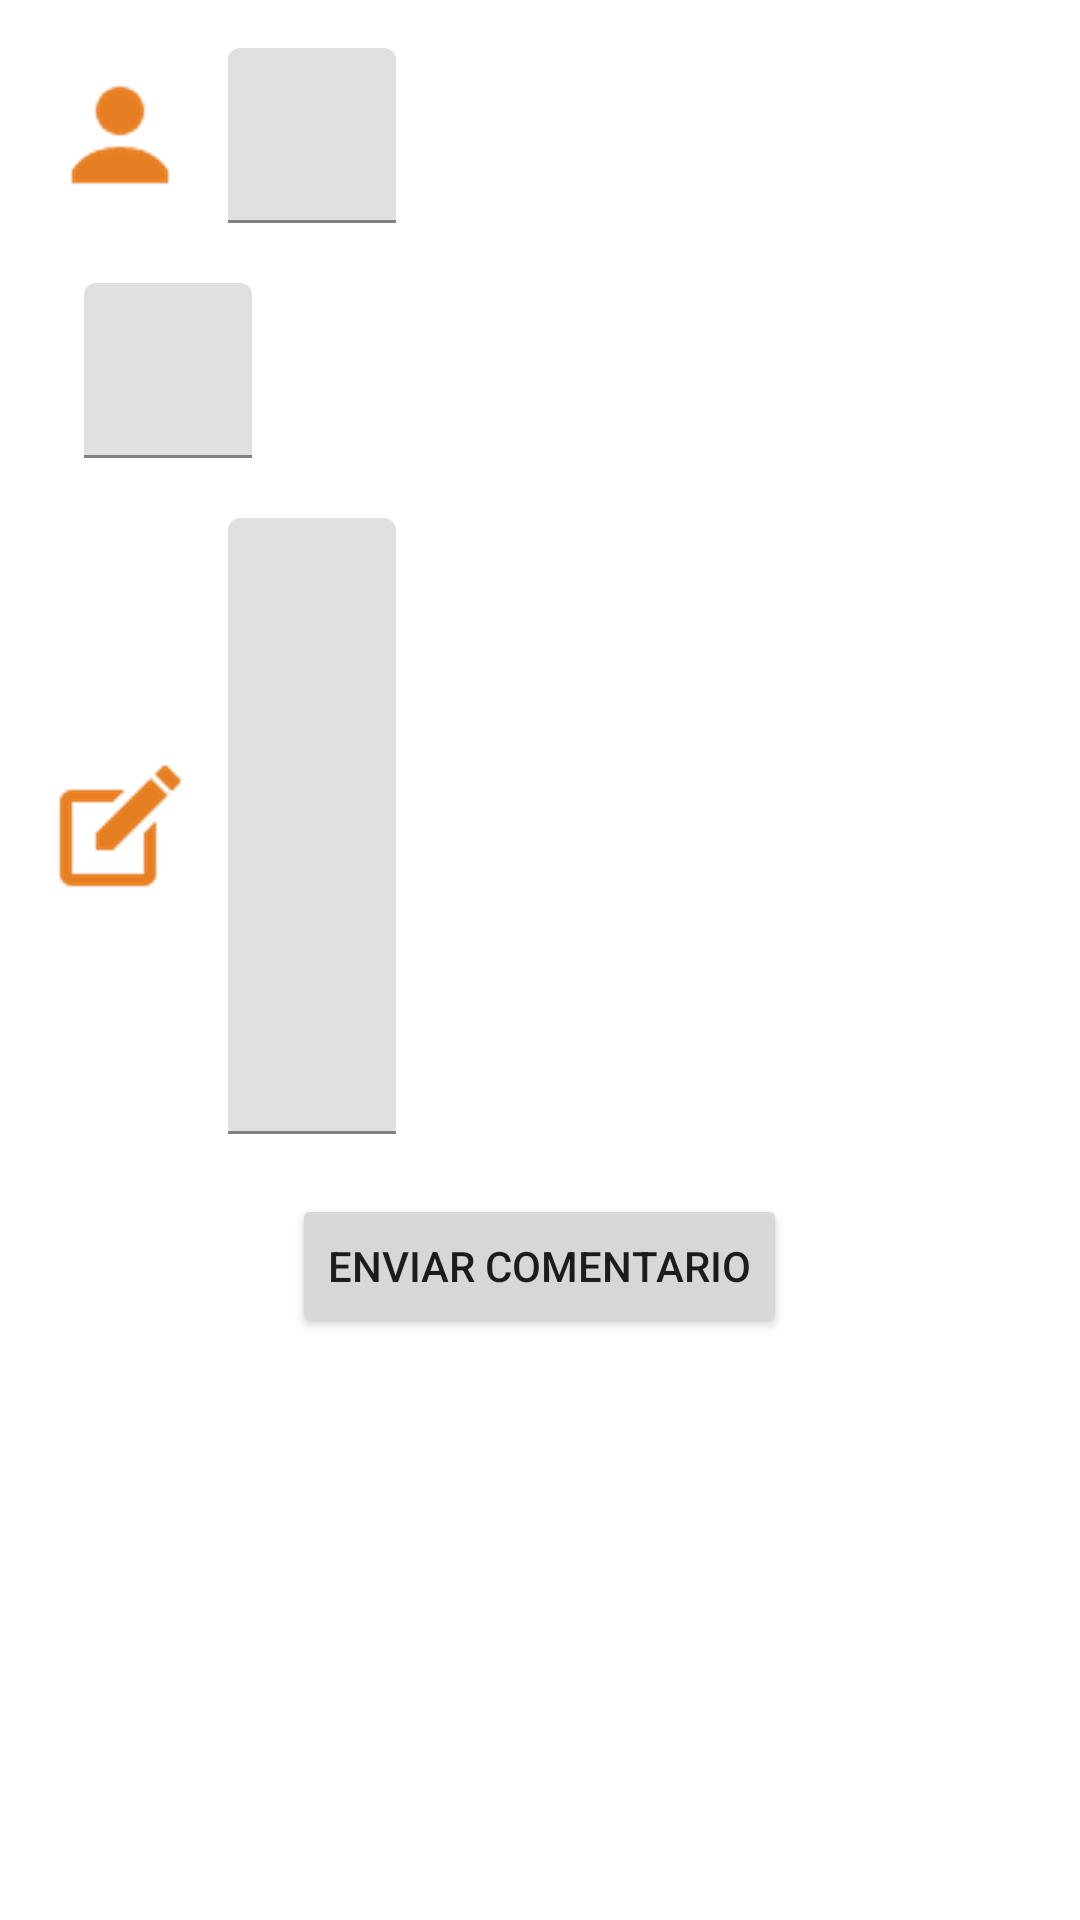

Icons on this 1080w x 1920h Android screen, each with its box as (x1, y1, x2, y2):
create: (59, 765, 181, 887)
user: (71, 86, 169, 184)
